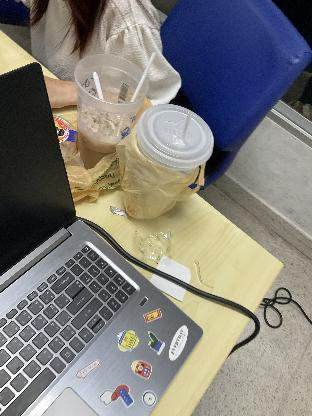Others: (74, 51, 148, 171), (115, 124, 205, 222), (136, 99, 216, 169), (50, 148, 128, 204), (149, 255, 194, 303), (130, 226, 178, 262), (128, 52, 158, 102), (47, 110, 76, 148), (91, 70, 112, 100), (110, 204, 132, 218)
